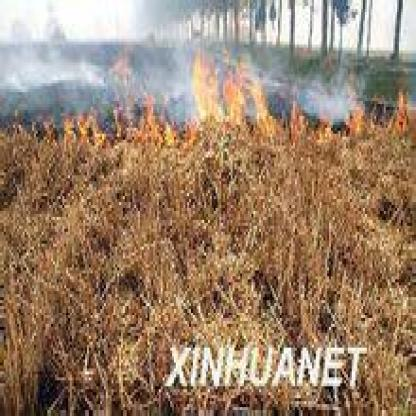fire: (42, 87, 176, 148), (187, 45, 271, 131), (288, 87, 407, 138)
